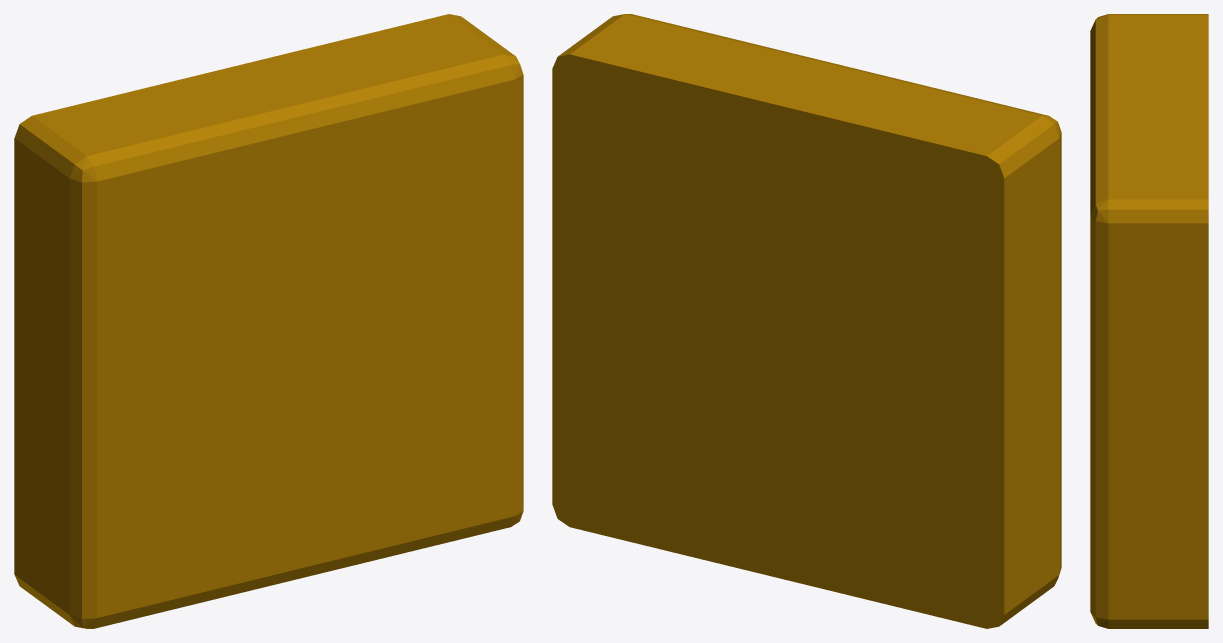
File: stoptop.obj
The picture shows the model from 3 angles, left to right: view 1: azimuth 30°, elevation 25°; view 2: azimuth 150°, elevation 25°; view 3: azimuth 270°, elevation 25°; orthographic projection. The views are drawn at different scales.
Visible parts, largest first — view 1: stoptop; view 2: stoptop; view 3: stoptop.
Boxes of the visible parts, x1,y1,x2,y2 form: stoptop: [14, 14, 523, 628]; stoptop: [552, 14, 1061, 628]; stoptop: [1090, 14, 1208, 628].
Bounding box in the file's own units: 0.12 × 0.12 × 0.03.
